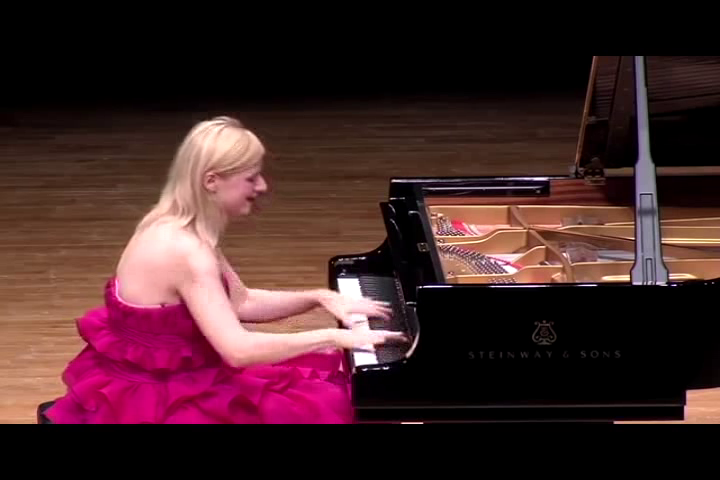keyboard: (333, 271, 414, 387)
